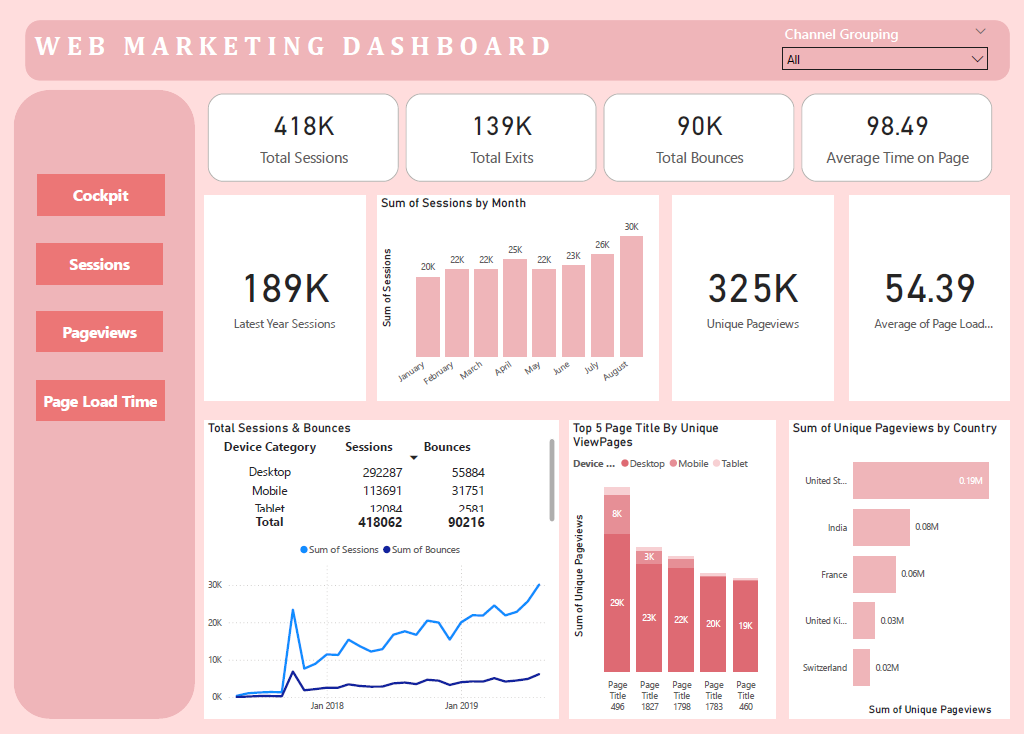

Layout of this report page (visuals, bound fields, positions):
{"tool":"powerbi","page":{"name":"Page 1","canvas":[1400,1000],"ordinal":0},"visuals":[{"type":"textbox","box":[33.5,26.8,1343.8,82.1],"z":0},{"type":"shape","box":[18.4,122.3,246.3,857.9],"z":1000},{"type":"actionButton","box":[50.3,237.9,172.6,55.3],"z":2000},{"type":"actionButton","box":[48.6,331.8,172.6,55.3],"z":3000},{"type":"actionButton","box":[48.6,423.9,172.6,55.3],"z":4000},{"type":"actionButton","box":[48.6,517.8,174.3,55.3],"z":5000},{"type":"cardVisual","fields":{"Data":["Sum(Web Marketing_Data.Sessions)","Sum(Web Marketing_Data.Exits)","Sum(Web Marketing_Data.Bounces)","Avg(Web Marketing_Data.Time on Page)"]},"box":[278.2,122.3,1083,130],"z":6000},{"type":"cardVisual","fields":{"Data":["Sum(Web Marketing_Data.Sessions)"]},"box":[278.2,266.4,219.5,279.8],"z":7000},{"type":"cardVisual","fields":{"Data":["Avg(Web Marketing_Data.Page Load Time)"]},"box":[1157.8,266.4,219.5,279.8],"z":8000},{"type":"cardVisual","fields":{"Data":["Sum(Web Marketing_Data.Unique Pageviews)"]},"box":[916.6,266.4,219.5,279.8],"z":9000},{"type":"clusteredColumnChart","fields":{"Category":["Web Marketing_Data.Date.Variation.Date Hierarchy.Month"],"Y":["Sum(Web Marketing_Data.Sessions)"]},"box":[514.4,266.4,383.7,279.8],"z":10000},{"type":"pivotTable","title":"Total Sessions & Bounces","fields":{"Rows":["Web Marketing_Data.Device Category"],"Values":["Sum(Web Marketing_Data.Sessions)","Sum(Web Marketing_Data.Bounces)"]},"box":[278.2,573.1,484.3,155.8],"z":11000},{"type":"lineChart","fields":{"Category":["Web Marketing_Data.Date.Variation.Date Hierarchy.Year","Web Marketing_Data.Date.Variation.Date Hierarchy.Month"],"Y":["Sum(Web Marketing_Data.Sessions)","Sum(Web Marketing_Data.Bounces)"]},"box":[278.2,728.9,484.3,251.3],"z":12000},{"type":"columnChart","title":"Top 5 Page Title By Unique ViewPages","fields":{"Category":["Web Marketing_Data.Page Title"],"Y":["Sum(Web Marketing_Data.Unique Pageviews)"],"Series":["Web Marketing_Data.Device Category"]},"box":[775.8,573.1,281.5,407.2],"z":13000},{"type":"slicer","fields":{"Values":["Web Marketing_Data.Channel Grouping"]},"box":[1057.3,26.8,299.9,82.1],"z":14000},{"type":"clusteredBarChart","fields":{"Category":["Web Marketing_Data.Country"],"Y":["Sum(Web Marketing_Data.Unique Pageviews)"]},"box":[1075.7,573.1,301.6,407.2],"z":15000}]}

Visuals, with their boxes in screenshot pixels (x1, y1, x2, y2), scaled from the page's 1400x1000 canvas onto the 1024x734 screenshot:
textbox: 25:20:1007:80
shape: 13:90:194:719
actionButton: 37:175:163:215
actionButton: 36:244:162:284
actionButton: 36:311:162:352
actionButton: 36:380:163:421
cardVisual - Sum(Web Marketing_Data.Sessions) x Sum(Web Marketing_Data.Exits): 203:90:996:185
cardVisual - Sum(Web Marketing_Data.Sessions): 203:196:364:401
cardVisual - Avg(Web Marketing_Data.Page Load Time): 847:196:1007:401
cardVisual - Sum(Web Marketing_Data.Unique Pageviews): 670:196:831:401
clusteredColumnChart - Web Marketing_Data.Date.Variation.Date Hierarchy.Month x Sum(Web Marketing_Data.Sessions): 376:196:657:401
"Total Sessions & Bounces" pivotTable: 203:421:558:535
lineChart - Web Marketing_Data.Date.Variation.Date Hierarchy.Year x Web Marketing_Data.Date.Variation.Date Hierarchy.Month: 203:535:558:719
"Top 5 Page Title By Unique ViewPages" columnChart: 567:421:773:720
slicer - Web Marketing_Data.Channel Grouping: 773:20:993:80
clusteredBarChart - Web Marketing_Data.Country x Sum(Web Marketing_Data.Unique Pageviews): 787:421:1007:720
